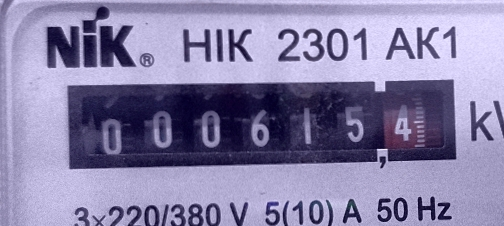0: (197, 107, 222, 150), (98, 115, 123, 156), (149, 108, 173, 148)
1: (300, 104, 313, 146)
4: (392, 101, 411, 142)
5: (342, 102, 365, 144)
6: (247, 106, 271, 147)
screen: (53, 67, 468, 181)
